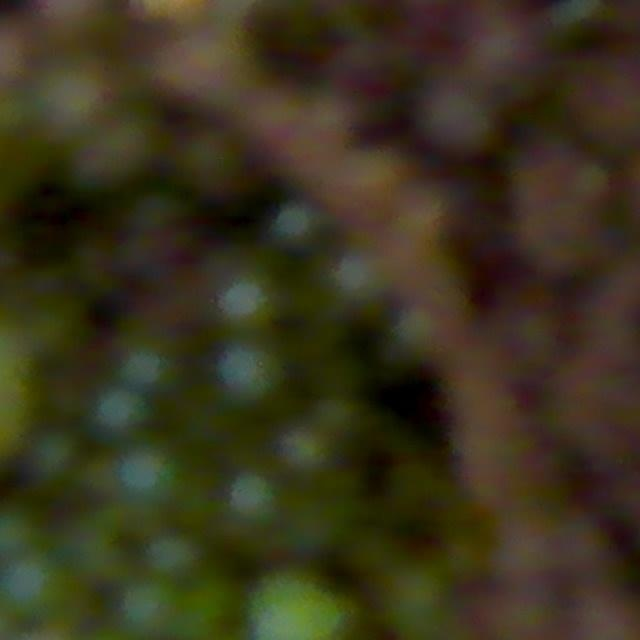SeaGrape: (508, 170, 620, 262), (552, 358, 640, 474), (564, 42, 640, 174), (26, 51, 119, 145), (244, 562, 354, 640), (78, 105, 166, 190), (412, 78, 499, 163), (169, 123, 253, 207), (109, 438, 190, 518), (376, 561, 457, 640), (208, 260, 285, 337), (0, 548, 75, 625), (214, 337, 288, 410), (117, 574, 185, 640), (220, 468, 286, 535), (272, 420, 339, 486), (141, 528, 203, 586), (91, 383, 149, 438), (267, 199, 320, 251)
